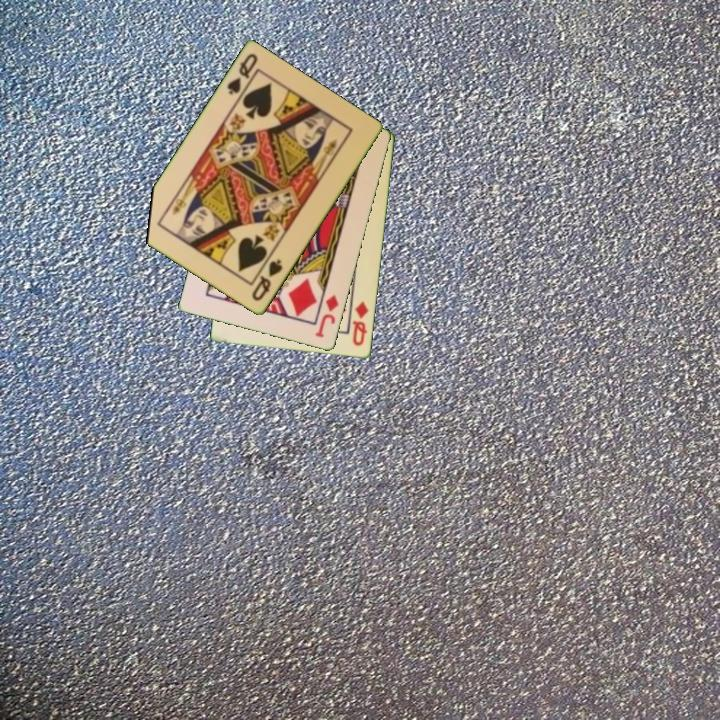Jd: (312, 292, 342, 341)
Qd: (349, 298, 372, 349)
Qs: (223, 50, 261, 104), (248, 256, 286, 304)
